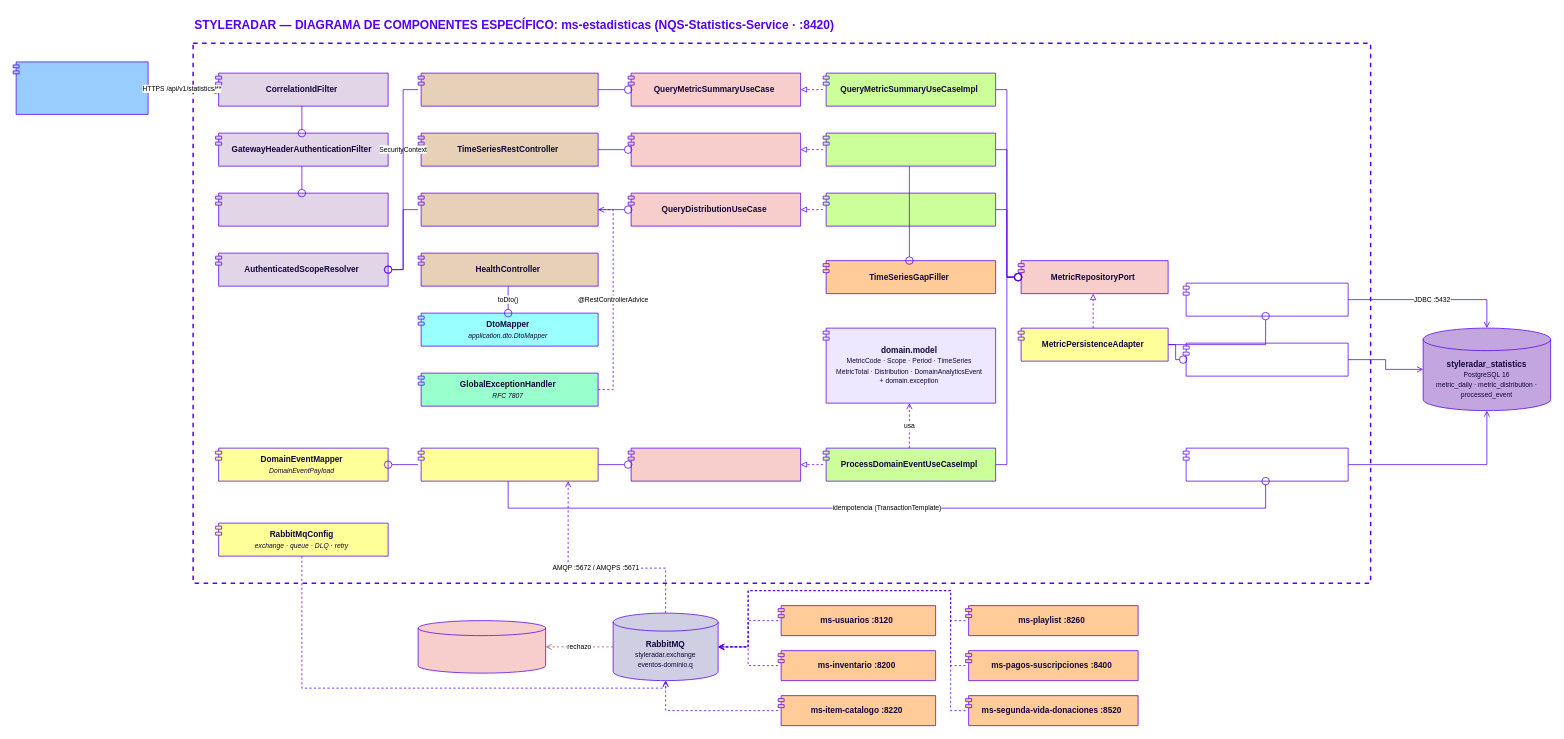
Some shapes in this 1564 by 739 pixel diagram are drawn without their labels. Each missing label, with the centre of its shape:
"DistributionRestController" belongs at point 507,209.
"DLQ styleradar.estadisticas.dlq" belongs at point 481,646.
"DomainEventListener" belongs at point 507,464.
"JwtTokenValidator HS256 · JWT_SECRET" belongs at point 301,209.
"MetricDailyJpaRepository" belongs at point 1265,299.
"MetricDistributionJpaRepository" belongs at point 1265,359.
"MetricSummaryRestController" belongs at point 507,89.
"ProcessDomainEventUseCase" belongs at point 714,464.
"ProcessedEventJpaRepository" belongs at point 1265,464.
"QueryDistributionUseCaseImpl" belongs at point 909,209.
"QueryTimeSeriesUseCase" belongs at point 714,149.
"QueryTimeSeriesUseCaseImpl" belongs at point 909,149.
"«sistema externo» api-gateway :8080" belongs at point 80,87.
